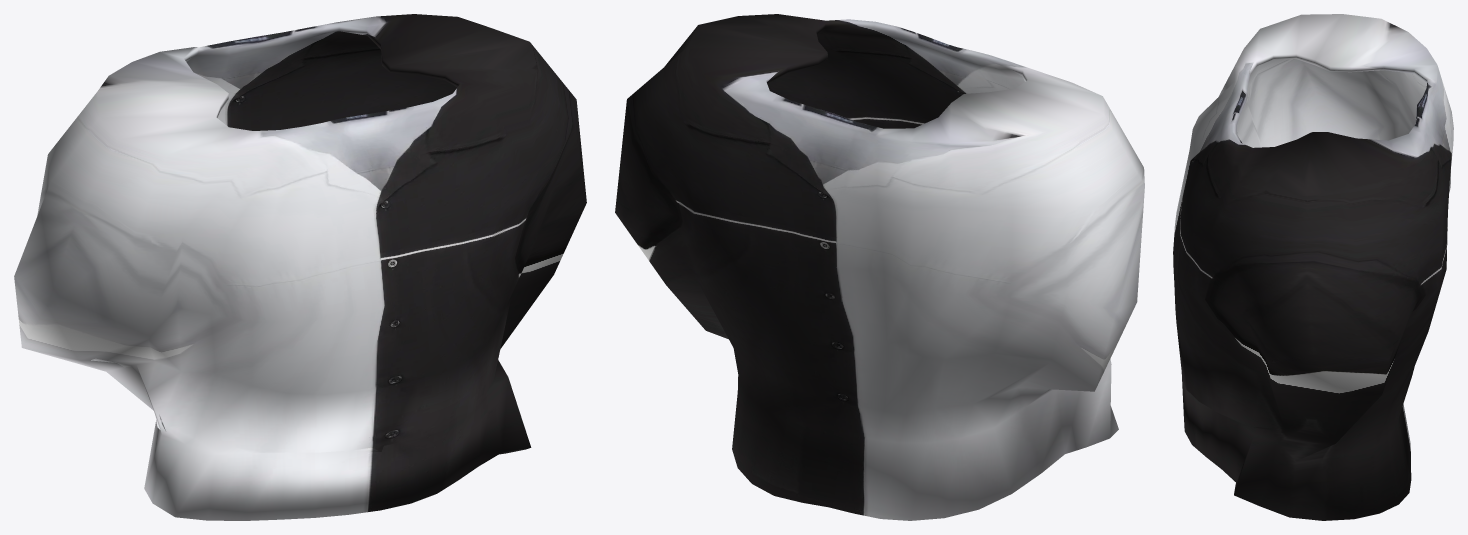
Rendered from a6b6b161-7fce-4857-8569-33322a0b3520.glb.
The picture shows the model from 3 angles, left to right: view 1: azimuth 30°, elevation 25°; view 2: azimuth 150°, elevation 25°; view 3: azimuth 270°, elevation 25°; orthographic projection. The views are drawn at different scales.
Visible parts, largest first — view 1: garment; view 2: garment; view 3: garment.
Boxes of the visible parts, x1,y1,x2,y2 form: garment: (14,14,586,520); garment: (615,14,1144,520); garment: (1173,14,1453,520).
Size of the model in its own units: 0.577 by 0.4418 by 0.3052.
Materials: 1 (1 with a texture image).
